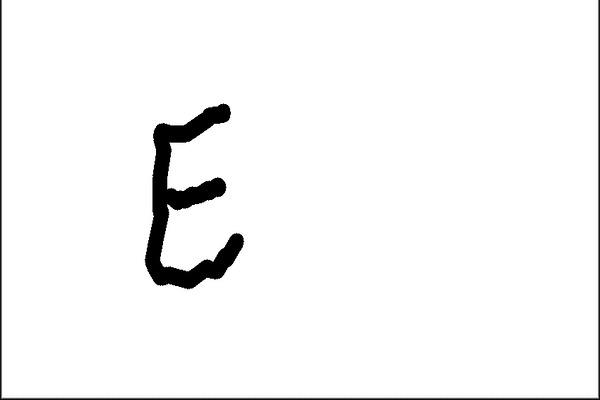E: (139, 99, 250, 294)
